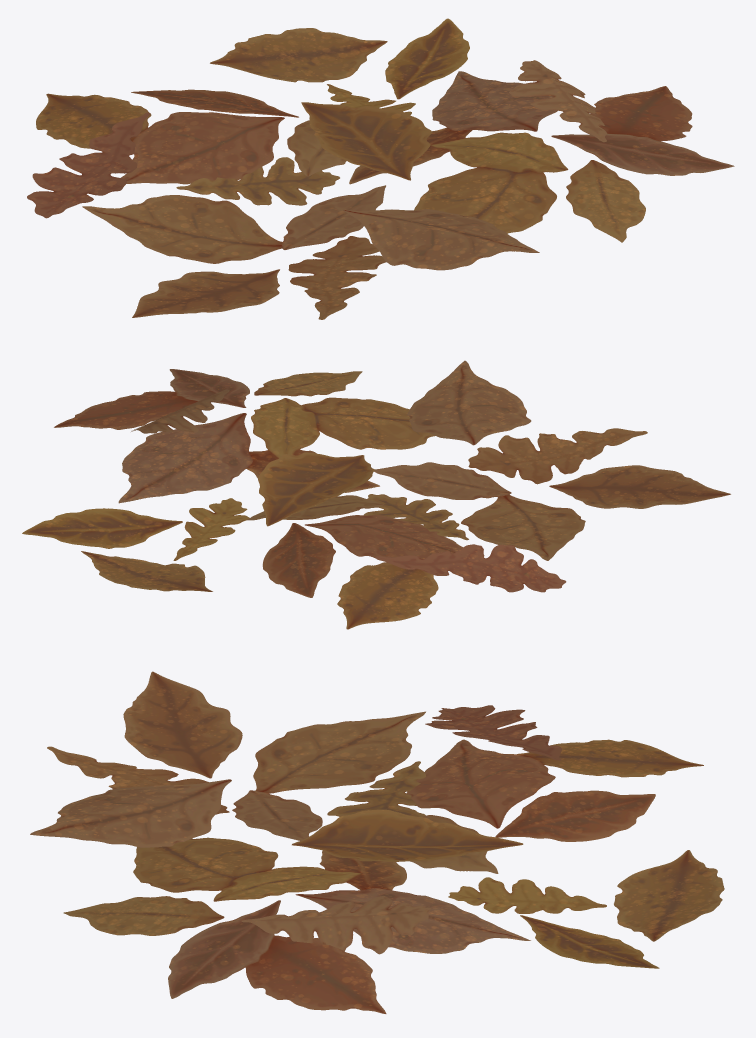
Rendered from MSH_fwOF_Leaves_01.fbx.
The picture shows the model from 3 angles, top to bottom: view 1: azimuth 30°, elevation 25°; view 2: azimuth 150°, elevation 25°; view 3: azimuth 270°, elevation 25°; orthographic projection. The views are drawn at different scales.
Visible parts, largest first — view 1: MSH_fwOF_Leaves_01; view 2: MSH_fwOF_Leaves_01; view 3: MSH_fwOF_Leaves_01.
Part boxes in pixels (bbox=[...]): MSH_fwOF_Leaves_01: bbox=[27, 18, 734, 319]; MSH_fwOF_Leaves_01: bbox=[22, 360, 730, 629]; MSH_fwOF_Leaves_01: bbox=[30, 671, 724, 1013].
Bounding box in the file's own units: 0.6629 × 0.0577 × 0.5774.
